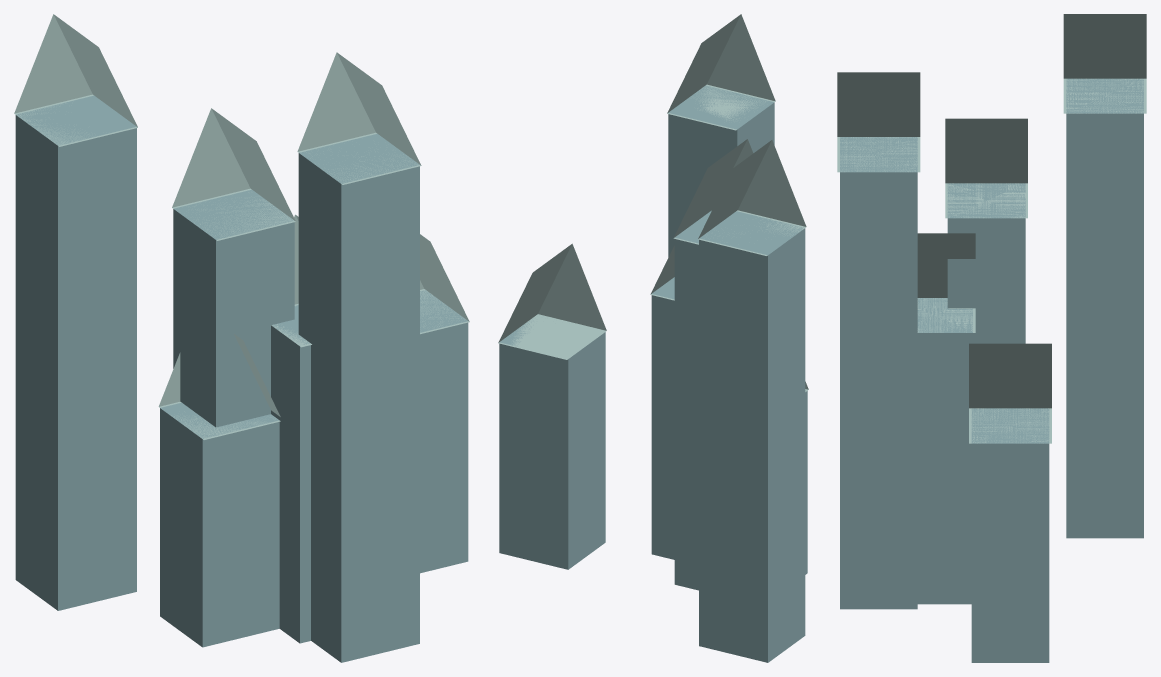
File: cristal_ciano.glb
3 views of the same model, side by side, from view 1: azimuth 30°, elevation 25°; view 2: azimuth 150°, elevation 25°; view 3: azimuth 270°, elevation 25° (orthographic). The views are drawn at different scales.
Visible parts, largest first — view 1: part_002, part_004, part_008, part_000, part_010, part_006, part_001, part_003, part_005, part_011, part_009, part_007; view 2: part_002, part_010, part_000, part_004, part_011, part_006, part_005, part_003, part_001, part_008, part_007; view 3: part_004, part_002, part_010, part_006, part_000, part_001, part_003, part_011, part_005, part_007.
Part boxes in pixels (x1,y1,x2,y2): part_002: (15,95,136,610); part_004: (298,133,419,662); part_008: (160,402,279,647); part_000: (173,189,294,427); part_010: (420,290,468,573); part_006: (271,305,310,643); part_001: (172,108,295,240); part_003: (14,14,137,146); part_005: (297,52,421,184); part_011: (420,234,469,334); part_009: (158,334,280,439); part_007: (271,214,311,347); part_002: (699,211,805,662); part_010: (499,318,605,569); part_000: (674,210,711,590); part_004: (668,85,774,257); part_011: (498,243,606,359); part_006: (651,277,674,559); part_005: (667,14,775,130); part_003: (698,140,806,255); part_001: (673,139,753,244); part_008: (805,391,807,574); part_007: (650,245,674,300); part_004: (840,137,917,609); part_002: (1066,78,1143,538); part_010: (971,408,1049,662); part_006: (917,298,972,604); part_000: (947,183,1025,343); part_001: (945,118,1027,218); part_003: (1063,14,1146,113); part_011: (969,343,1051,443); part_005: (837,72,920,172); part_007: (917,233,975,332).
Bounding box in the file's own units: 1.46 × 2.21 × 1.19.
